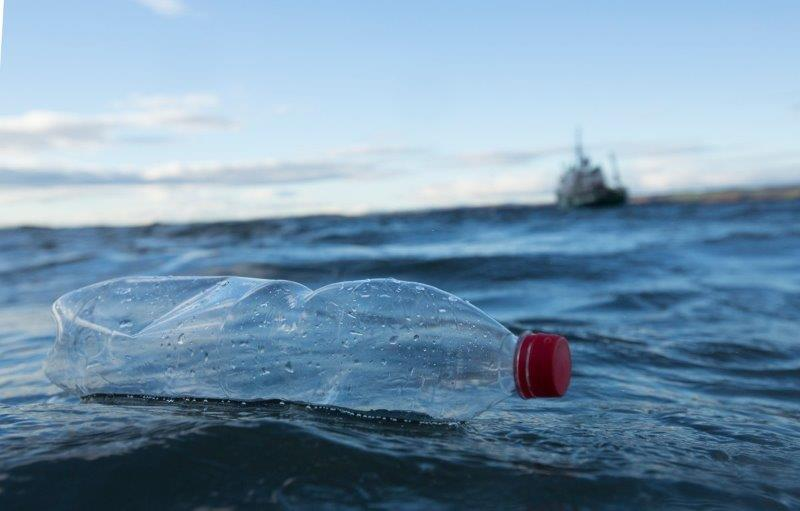plastic: (48, 271, 580, 426)
